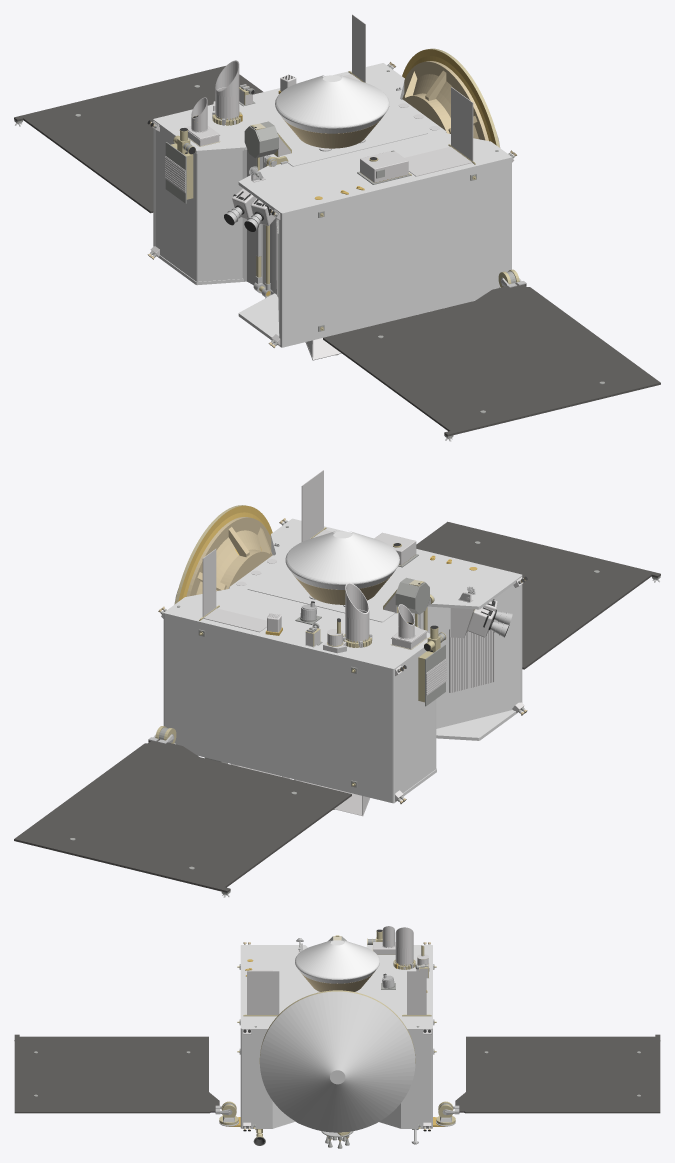
The model's file is osiris_rex-low.glb.
3 renders of one model, top to bottom at view 1: azimuth 30°, elevation 25°; view 2: azimuth 150°, elevation 25°; view 3: azimuth 270°, elevation 25°, orthographic. The views are drawn at different scales.
Visible parts, largest first — view 1: Main Layer; view 2: Main Layer; view 3: Main Layer.
Boxes of the visible parts, left/top/right/bottom form: Main Layer: left=14, top=14, right=660, bottom=441; Main Layer: left=14, top=470, right=660, bottom=897; Main Layer: left=14, top=926, right=660, bottom=1148.
Size of the model in its own units: 13.72 by 12.01 by 34.65.
1 material, 1 textured.
